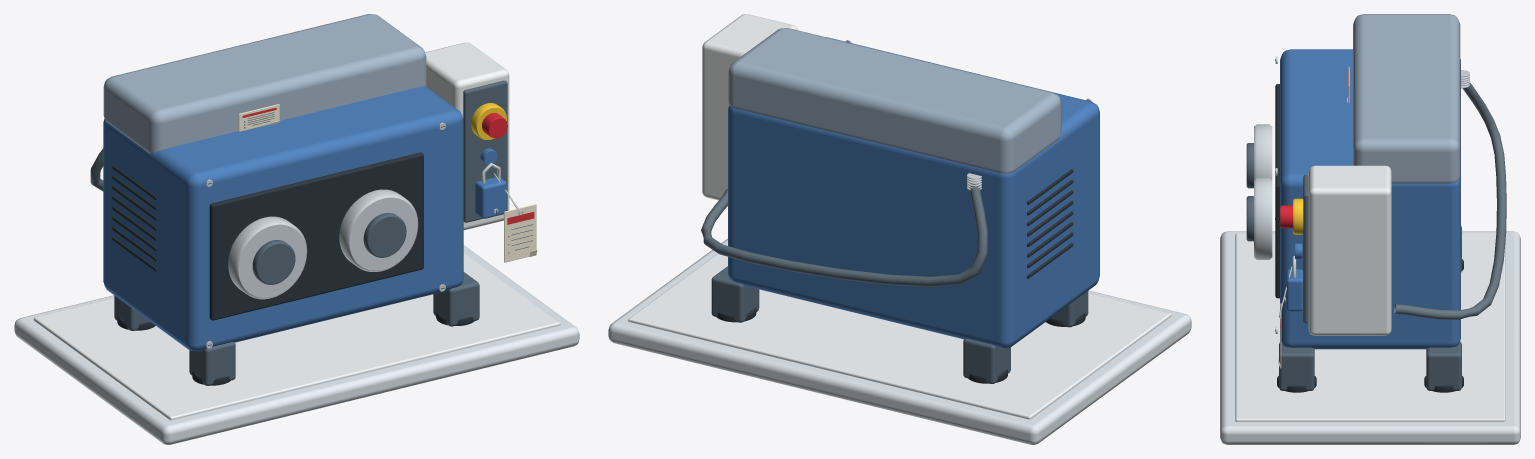
File: machinery-guard-missing.glb
The picture shows the model from 3 angles, left to right: view 1: azimuth 30°, elevation 25°; view 2: azimuth 150°, elevation 25°; view 3: azimuth 270°, elevation 25°; orthographic projection. The views are drawn at different scales.
Parts seen in each view (by area): view 1: machinery-guard-missing; view 2: machinery-guard-missing; view 3: machinery-guard-missing.
Boxes of the visible parts, <box> form: machinery-guard-missing: <box>14,14,579,444</box>; machinery-guard-missing: <box>608,14,1191,444</box>; machinery-guard-missing: <box>1220,14,1520,444</box>.
Size of the model in its own units: 0.77 by 0.476 by 0.49.
